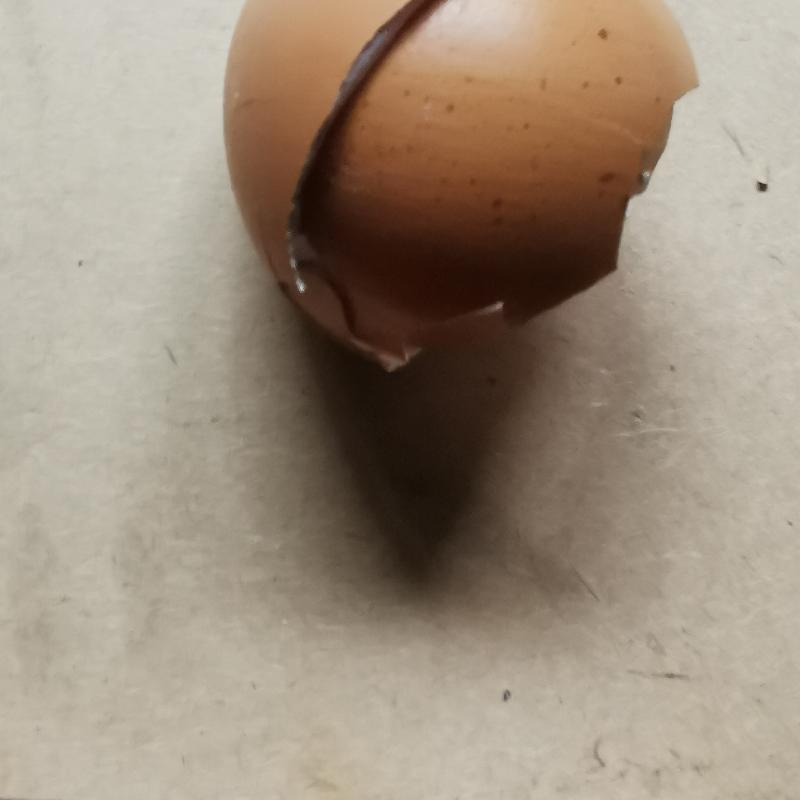eggshell: (212, 0, 706, 386)
